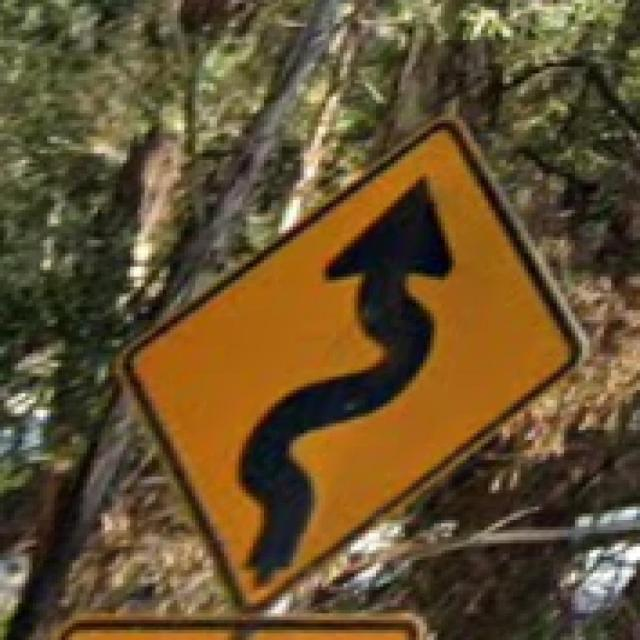Banyak Tikungan Pertama Kiri: (105, 103, 590, 617)
